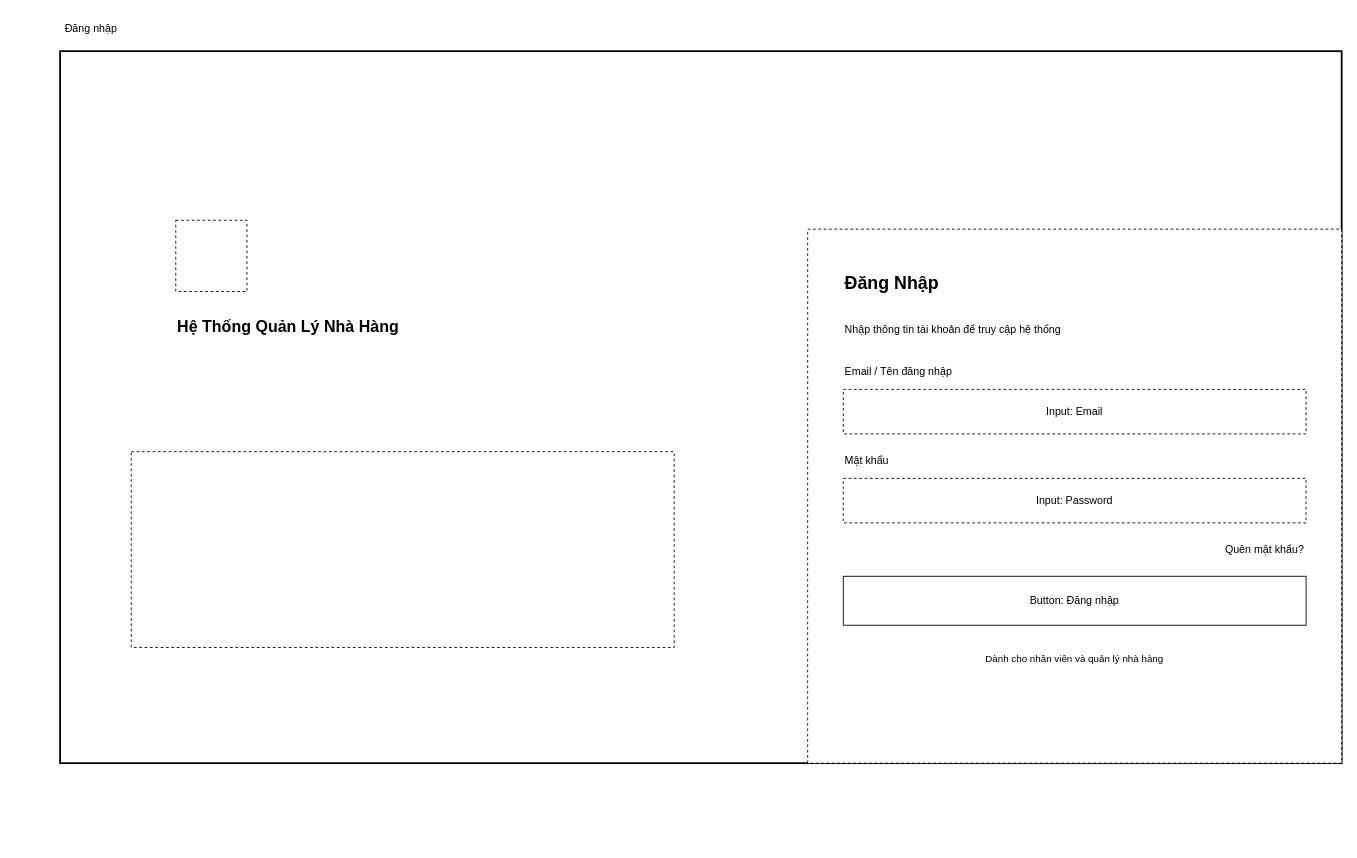
The diagram is 1357 pixels wide and 858 high, and some of its shapes have lost their labels. Here are the shapes that lost their labels. From the top down, the centre of each, then its label:
At pixel 211 255: "Logo".
At pixel 402 549: "banner quảng cáo".
